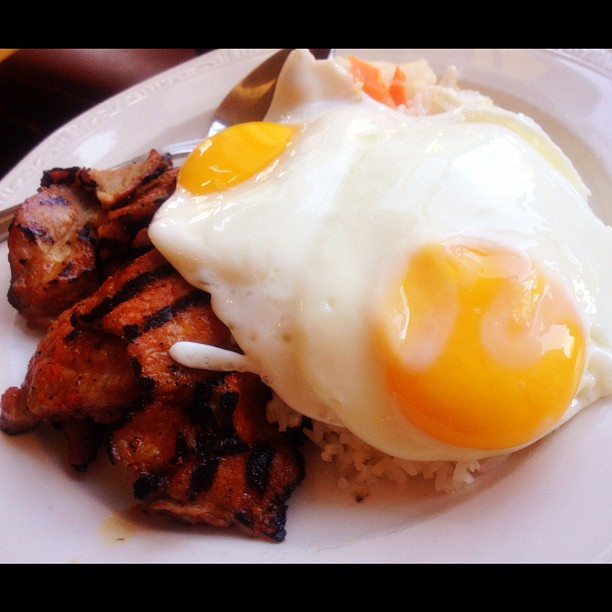fried egg: (287, 193, 605, 456), (153, 88, 460, 264)
plain rice: (280, 425, 488, 506)
